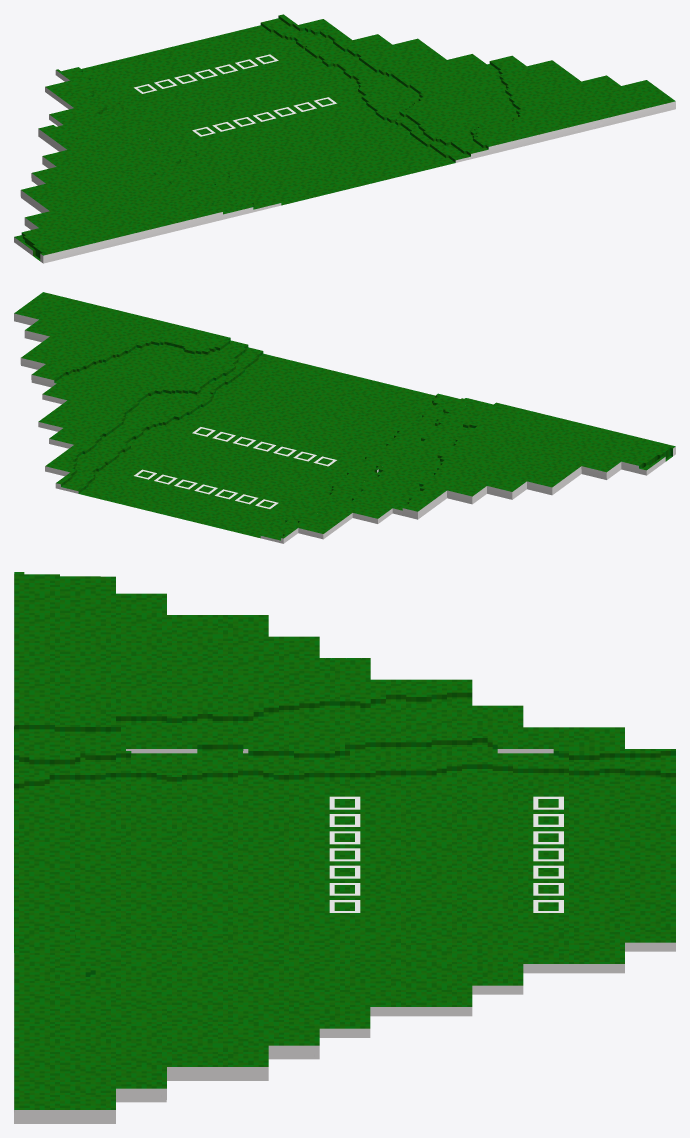
File: BattlefieldTest.fbx
3 views of the same model, one above another, from view 1: azimuth 30°, elevation 25°; view 2: azimuth 150°, elevation 25°; view 3: azimuth 270°, elevation 25° (orthographic). The views are drawn at different scales.
Visible parts, largest first — view 1: Plane; view 2: Plane; view 3: Plane.
Part boxes in pixels (bbox=[...]): Plane: bbox=[14, 14, 675, 263]; Plane: bbox=[14, 292, 675, 543]; Plane: bbox=[14, 572, 675, 1123].
Bounding box in the file's own units: 25001 × 300 × 13002.
